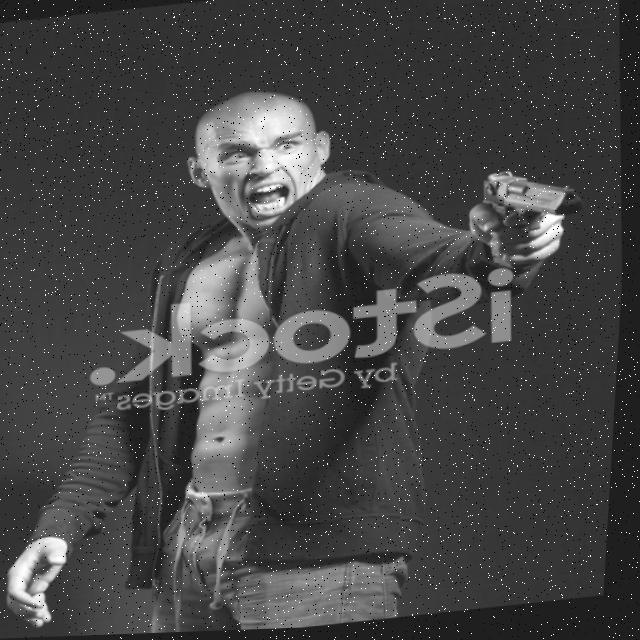pistol: (477, 165, 593, 276)
